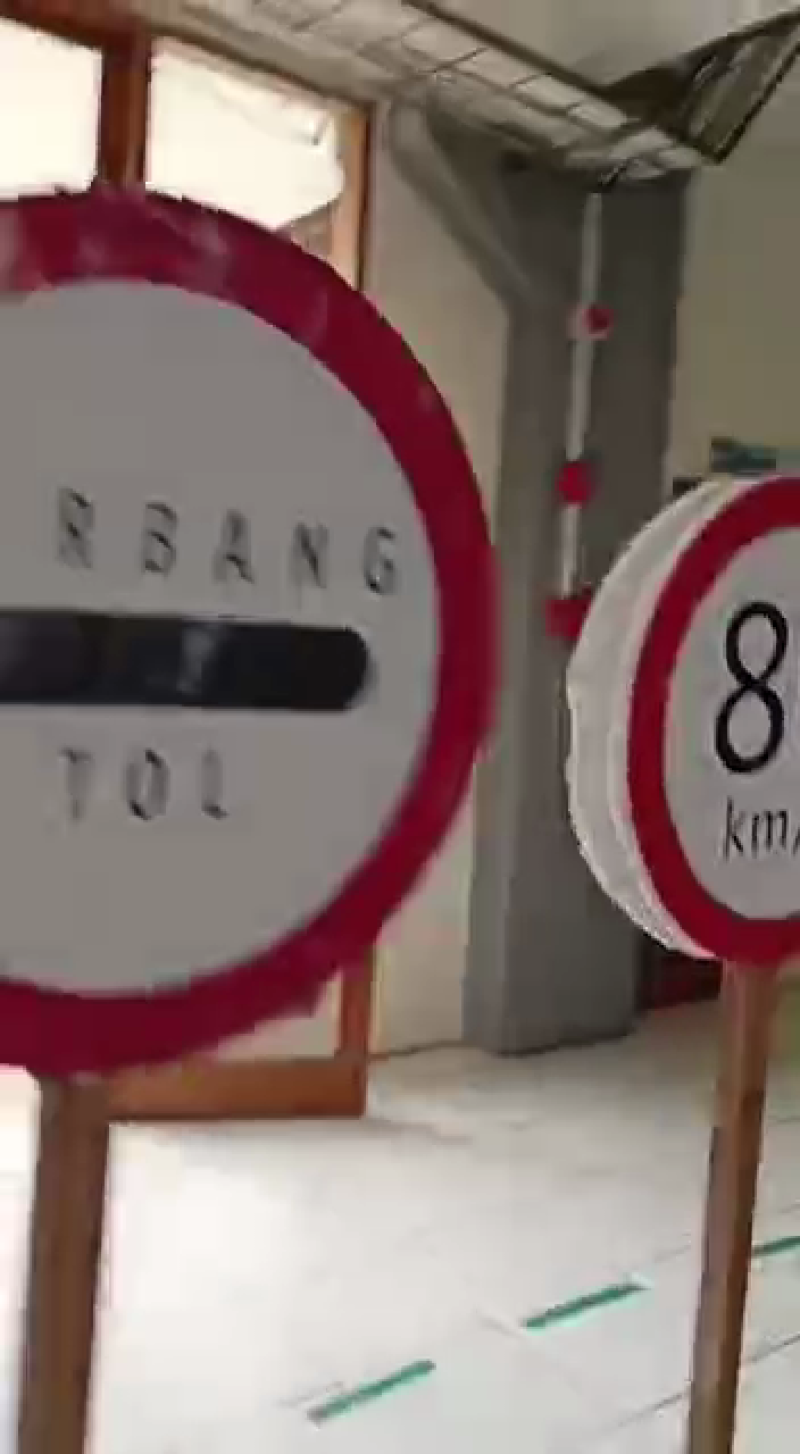batas maksimal 80kmperjam: (607, 460, 800, 980)
gerbang tol: (1, 154, 514, 1086)
